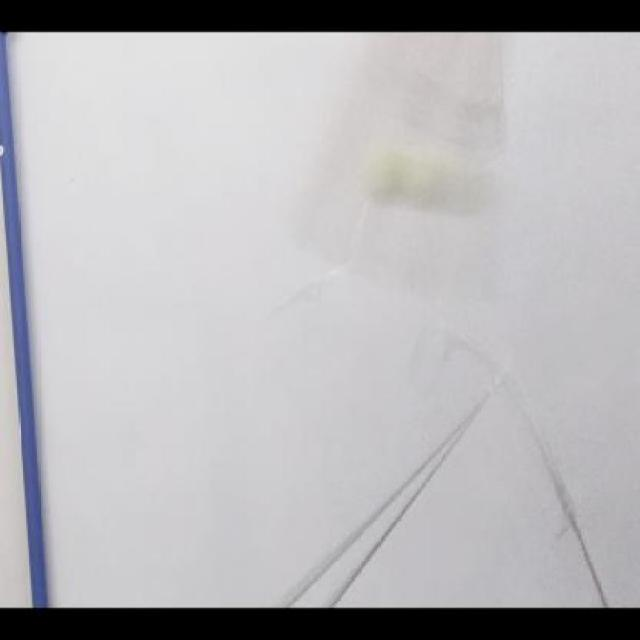baseball: (362, 137, 496, 218)
